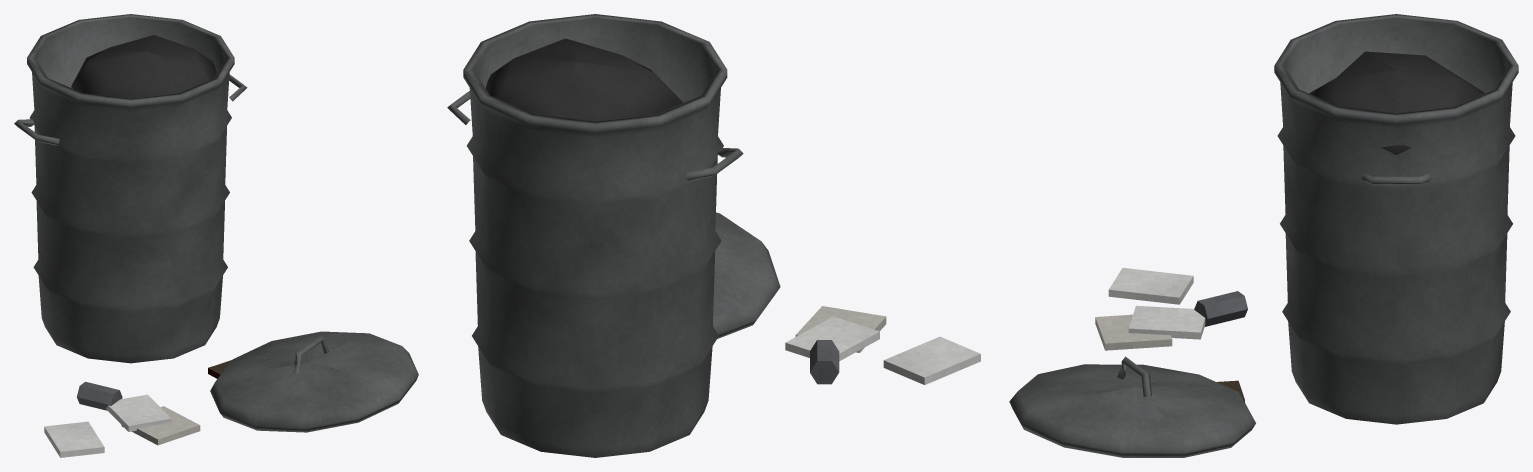
Rendered from ext_trash_can.glb.
3 views of the same model, side by side, from view 1: azimuth 30°, elevation 25°; view 2: azimuth 150°, elevation 25°; view 3: azimuth 270°, elevation 25° (orthographic). The views are drawn at different scales.
Visible parts, largest first — view 1: can-col, detail; view 2: can-col, detail; view 3: can-col, detail.
Boxes of the visible parts, x1=… form: can-col: x1=27, y1=14, x2=234, y2=363; detail: x1=14, y1=35, x2=418, y2=457; can-col: x1=463, y1=14, x2=727, y2=457; detail: x1=447, y1=38, x2=980, y2=384; can-col: x1=1274, y1=14, x2=1518, y2=424; detail: x1=1009, y1=51, x2=1484, y2=457.
Size of what is drawn, in the model's own units: 1.22 by 0.9387 by 1.31.
Materials: 6 (6 with a texture image).
